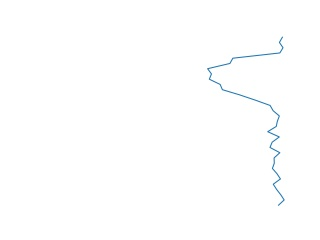distalBar: (199, 37, 294, 204)
